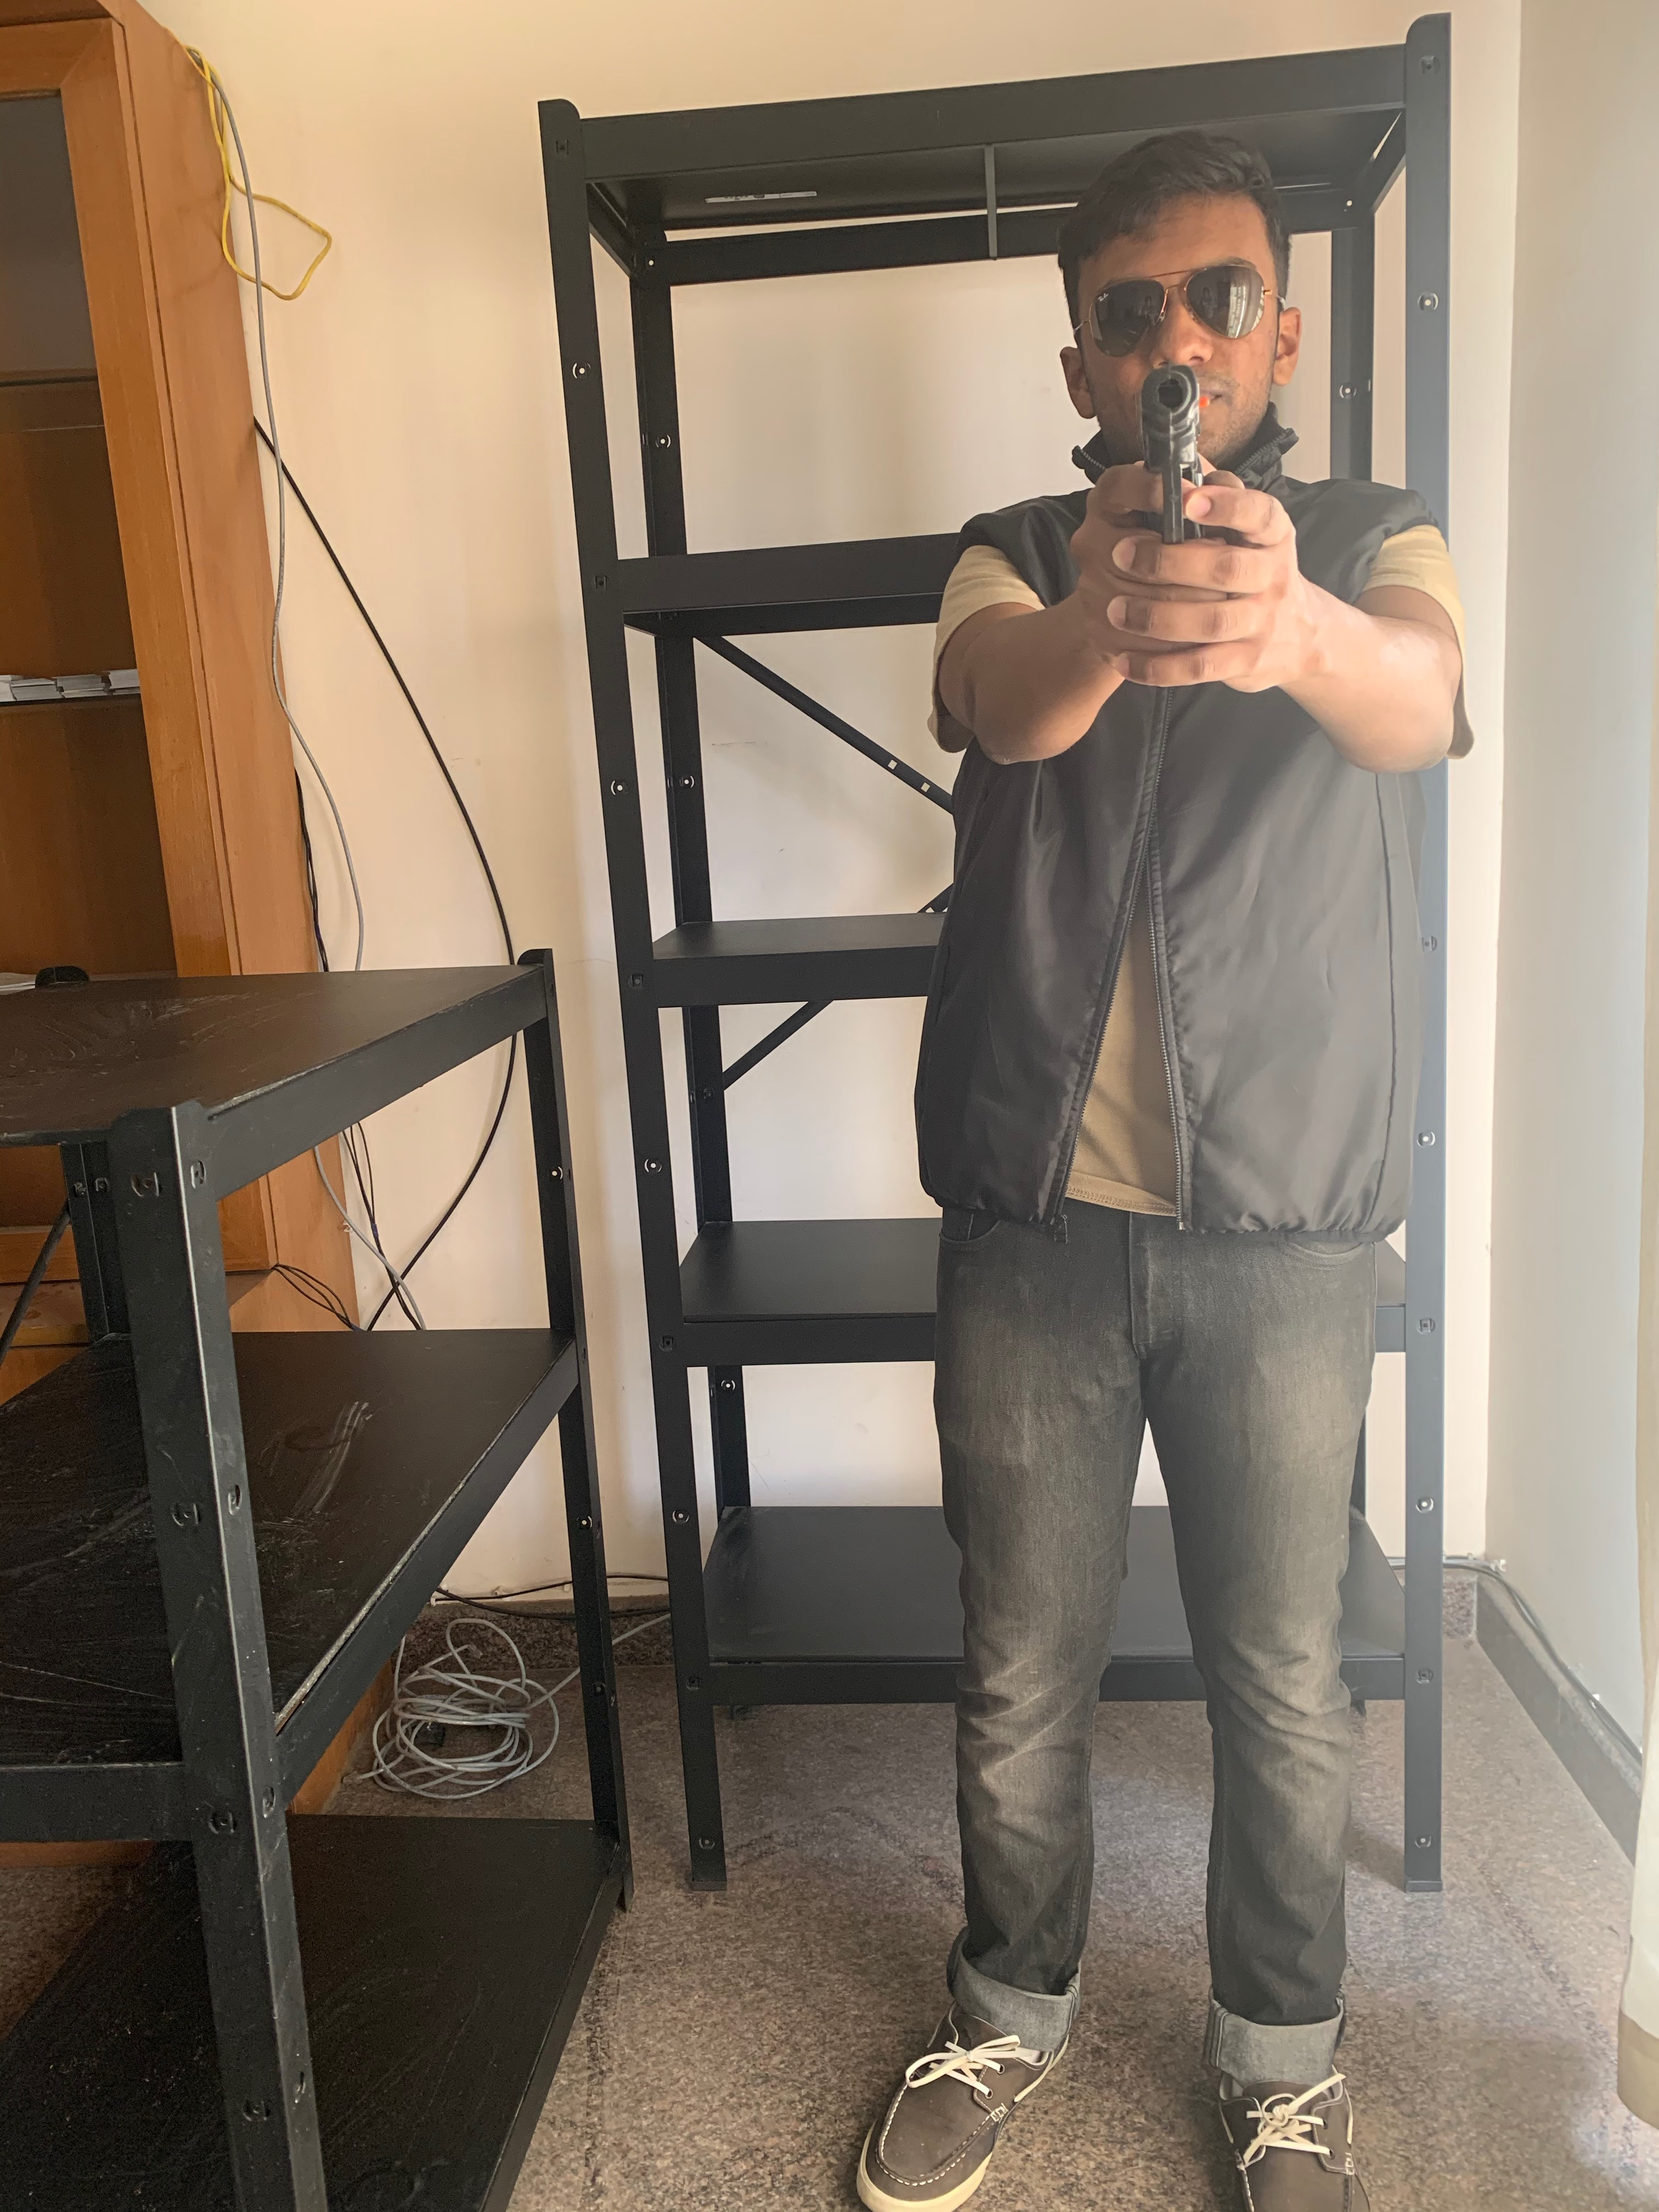gun: (1133, 348, 1197, 578)
